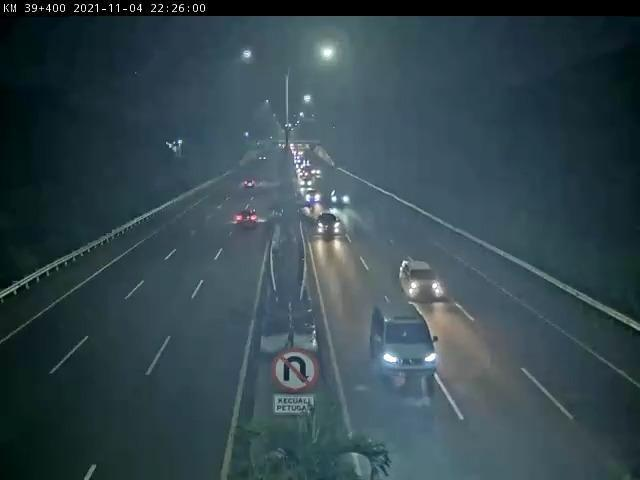car: (373, 304, 438, 382), (403, 262, 444, 300), (319, 216, 344, 236), (331, 191, 351, 208), (239, 211, 257, 225), (307, 192, 324, 203), (247, 181, 257, 190), (301, 172, 310, 179), (314, 168, 321, 176), (304, 181, 312, 186)
